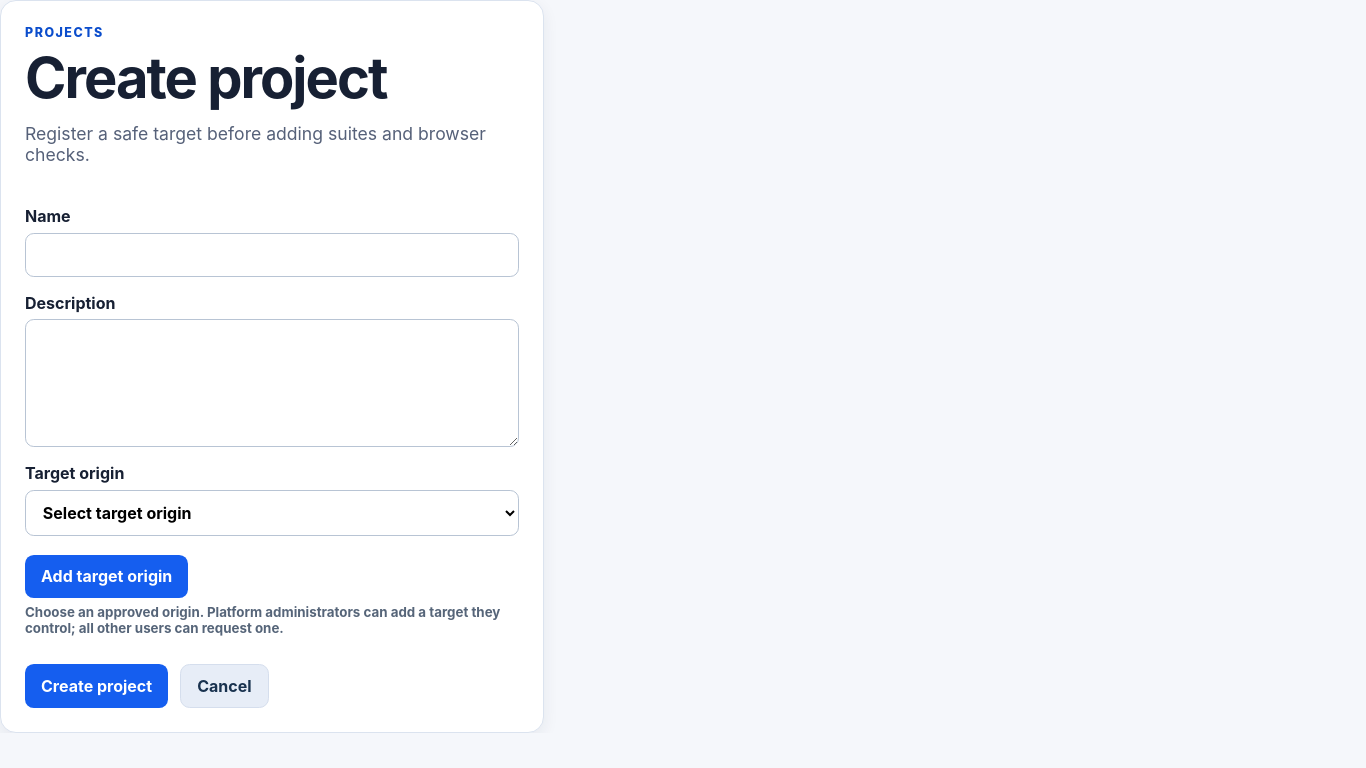
Test: project recovery surfaces › lets an administrator add a target origin and selects the canonical result
Click the button "Add target origin".
click(107, 576)  # box [25, 555, 188, 598]
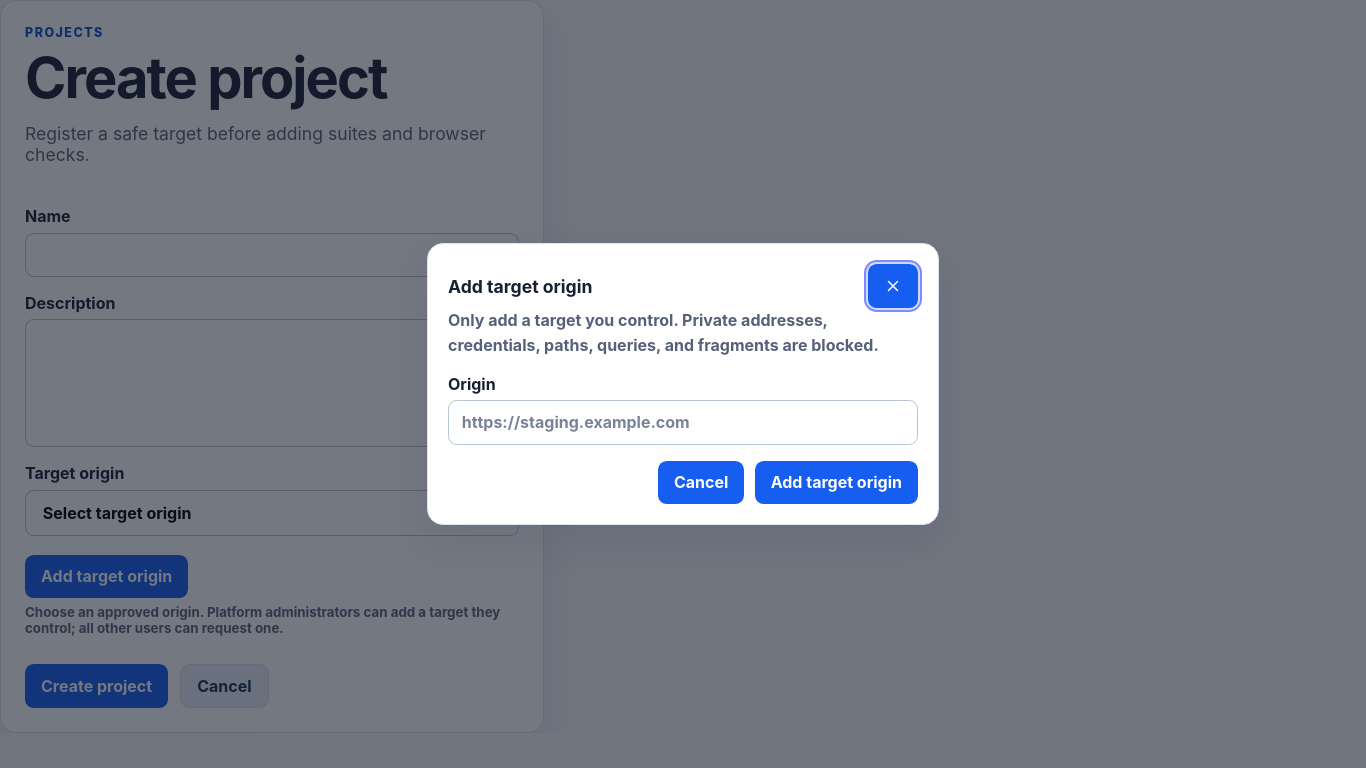
Type "https://STAGING.example.test/" into the field labelled "Origin".
click(683, 422); type("https://STAGING.example.test/")  # box [448, 400, 918, 445]
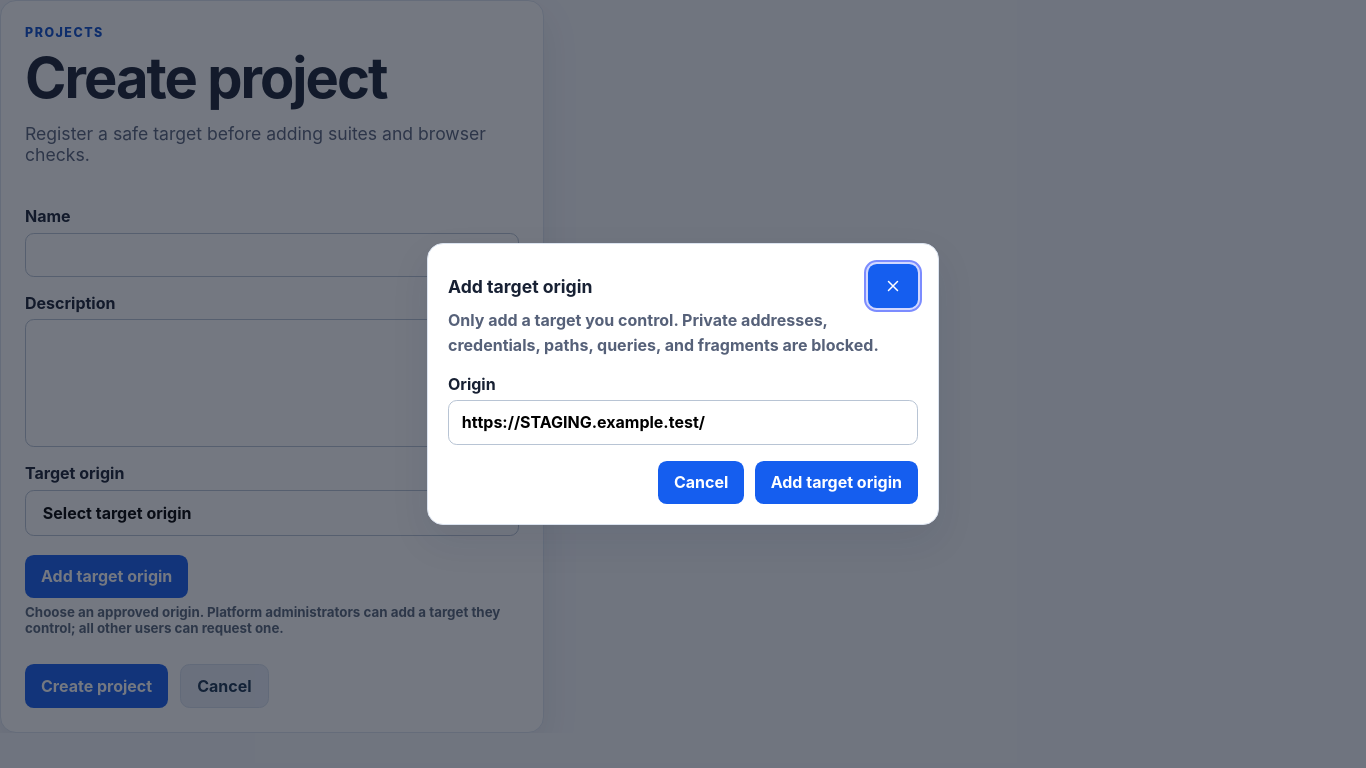
Click the button "Add target origin".
click(836, 482)  # box [755, 461, 918, 504]
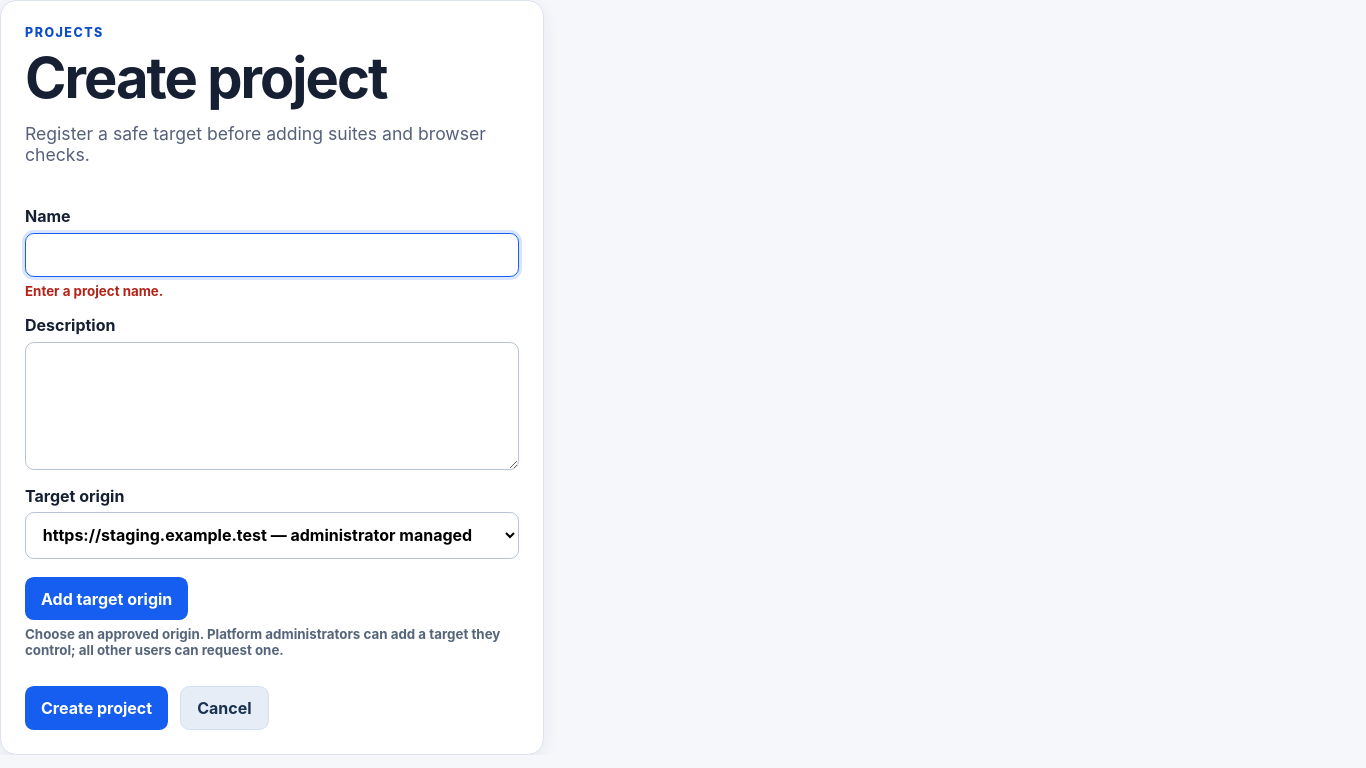
Expected: the dropdown labelled "Target origin" shows "https://staging.example.test — administrator managed", [25, 512, 519, 559]
